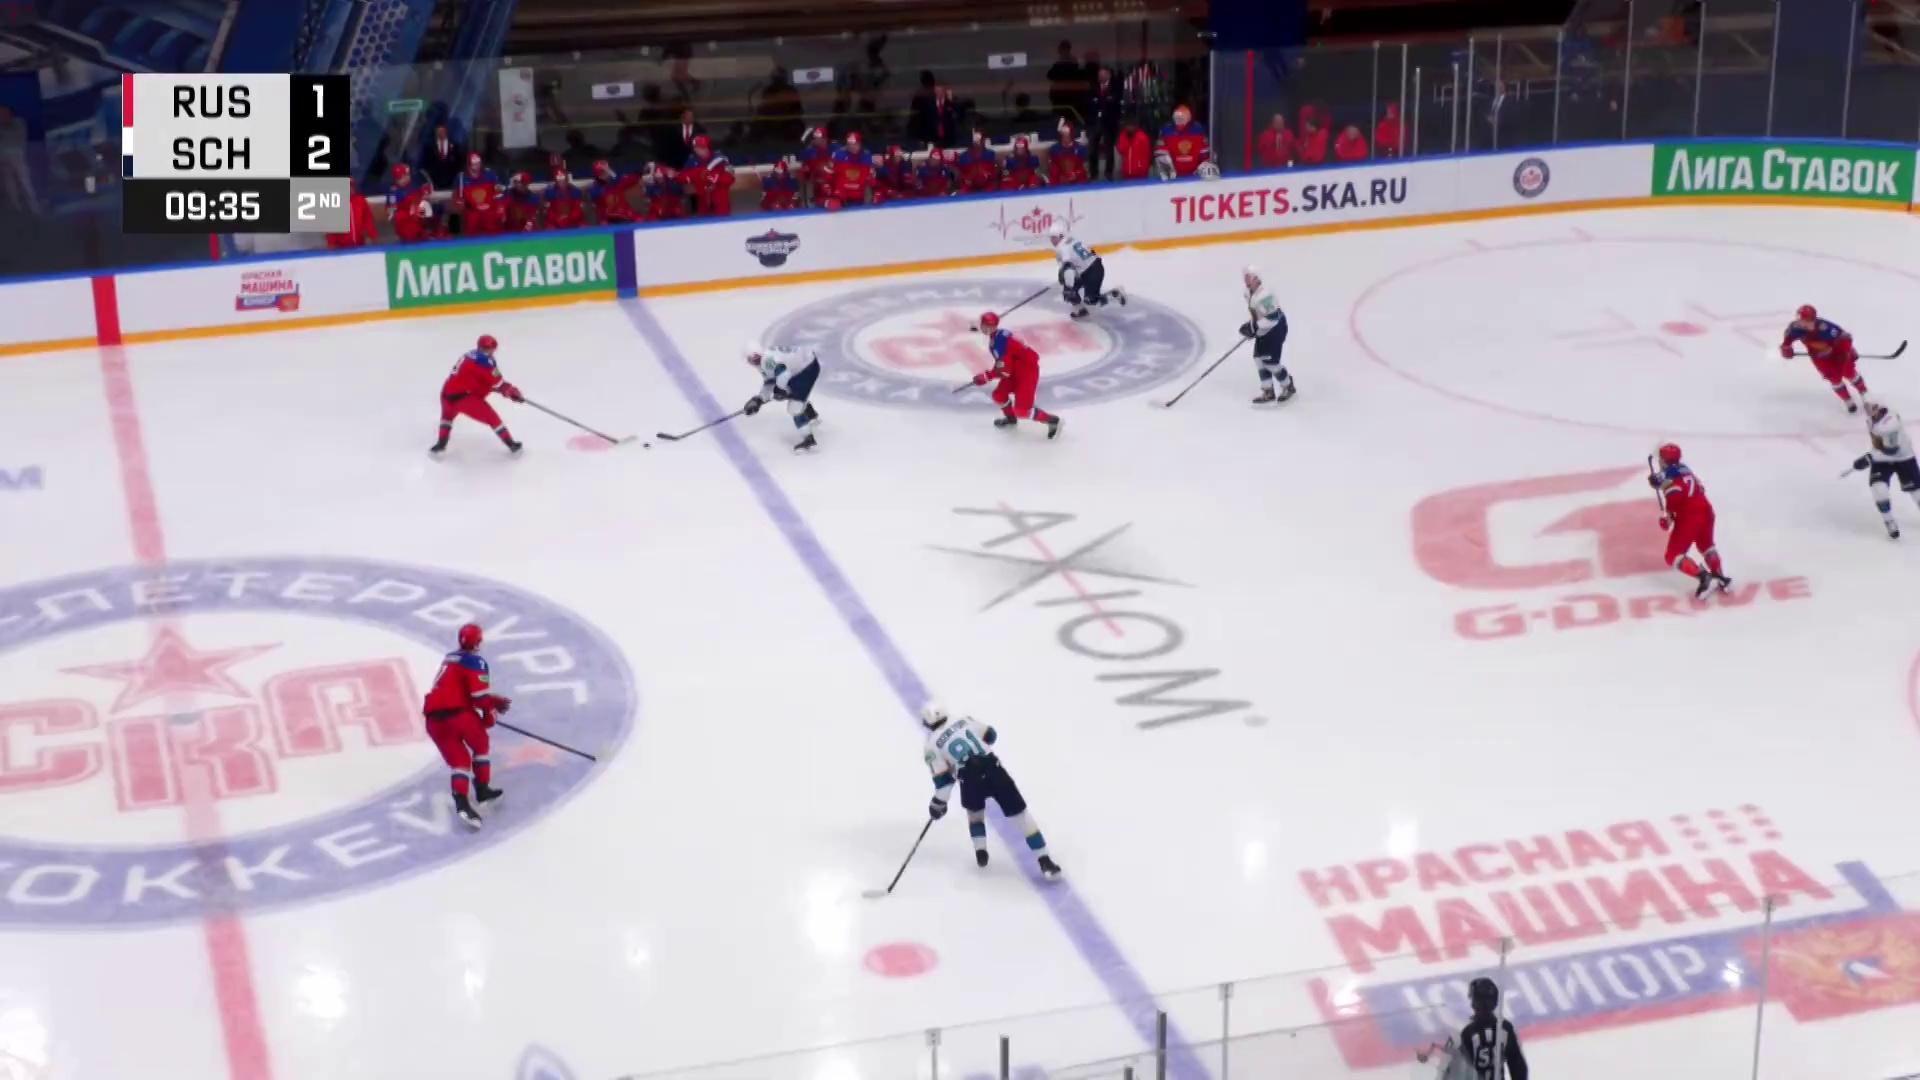ball: (642, 442, 653, 450)
